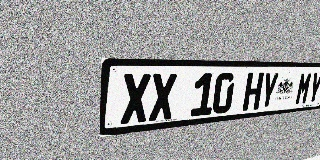0: (212, 73, 235, 114)
1: (191, 73, 216, 117)
H: (242, 72, 264, 111)
M: (294, 72, 313, 105)
X: (120, 73, 151, 124), (149, 73, 177, 121)
Y: (258, 72, 279, 109), (307, 72, 320, 104)
